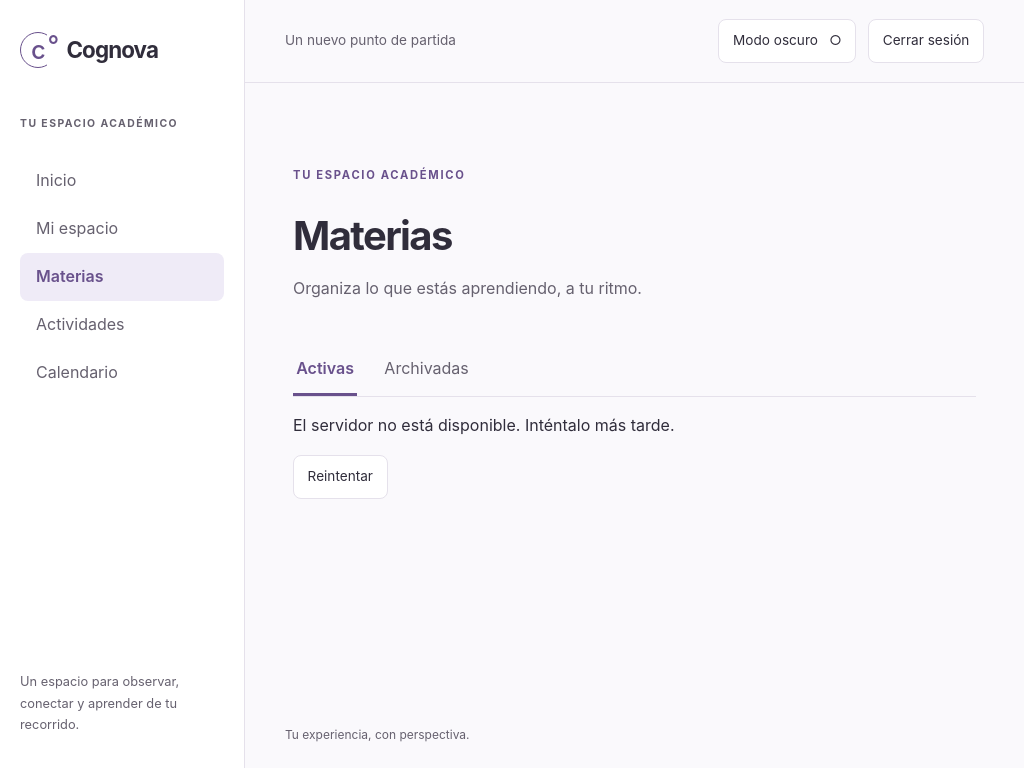
Test: Subjects routes and state › shows a retry after a read failure
Expected: the message shows "no está disponible", [293,415,674,435]
What coordinates should you click on to do the following:
click the button "Reintentar"
I would click on:
 (340, 477)
Its box is [293,455,388,499].
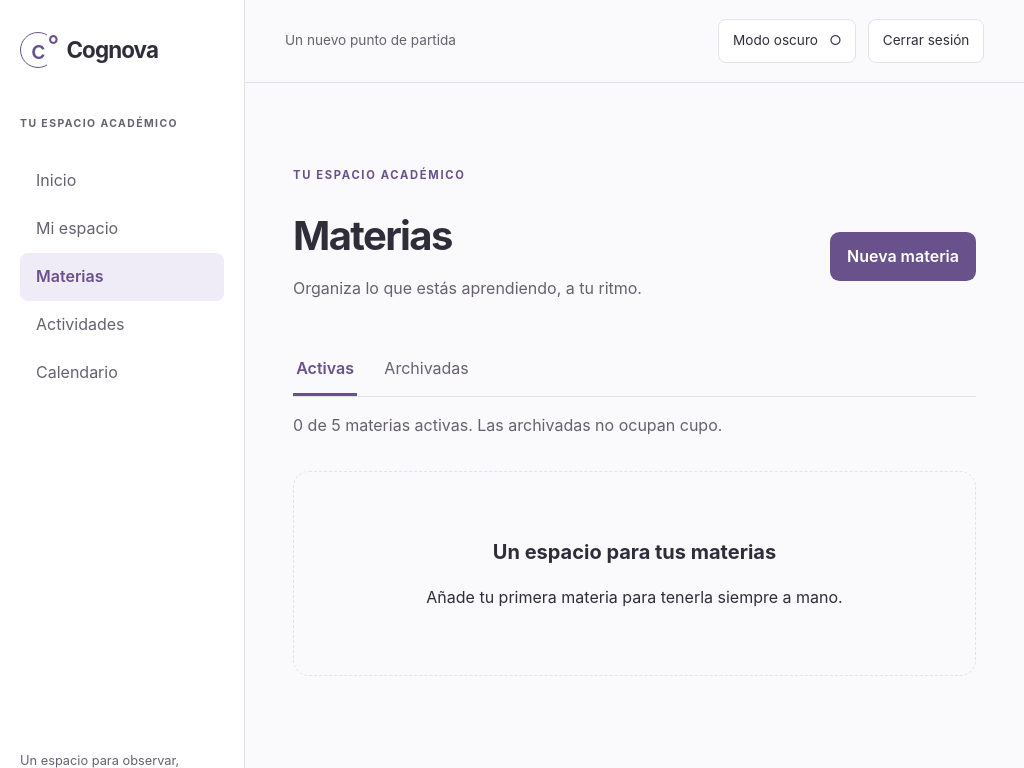
Result: the heading "Un espacio para tus materias" is shown at [493,540,776,564]
